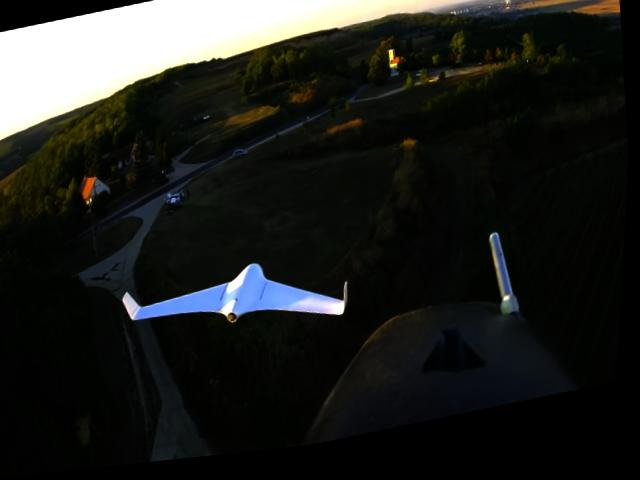plane: (121, 250, 356, 365)
